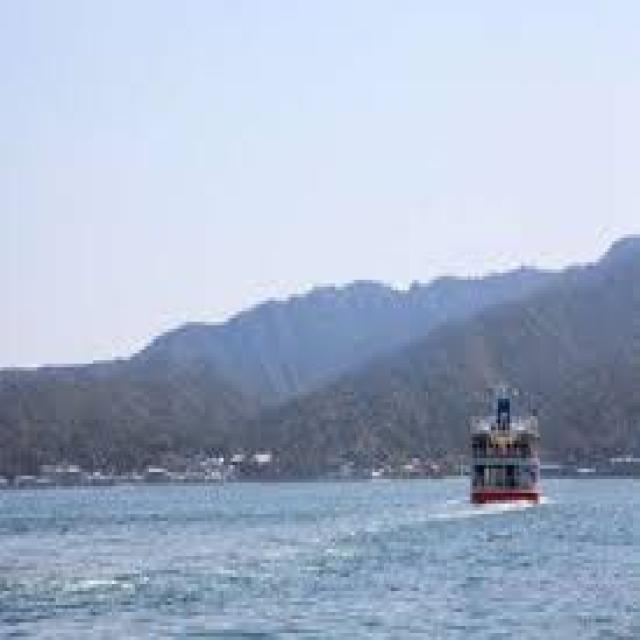fishing boat: (464, 382, 540, 511)
